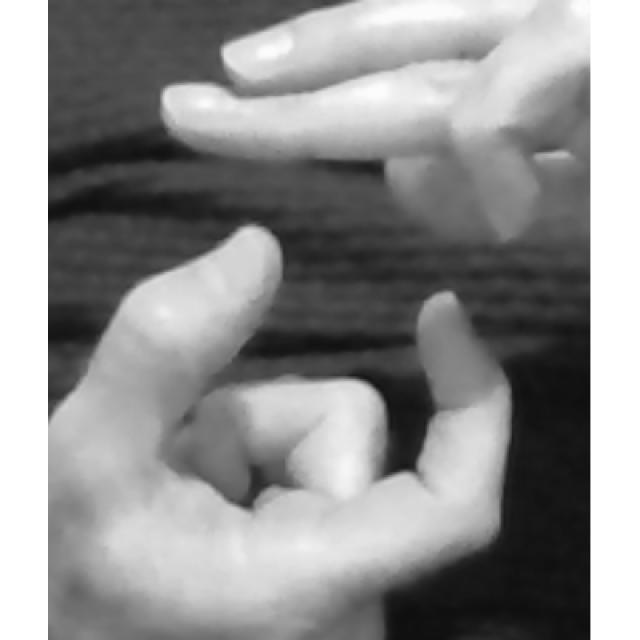U--: (48, 17, 590, 604)
